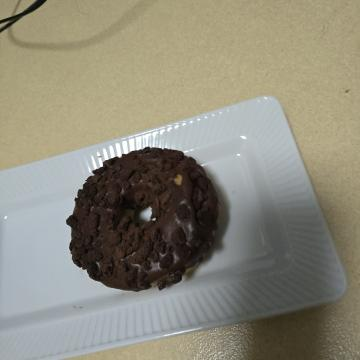doughnut: (129, 122, 304, 309)
